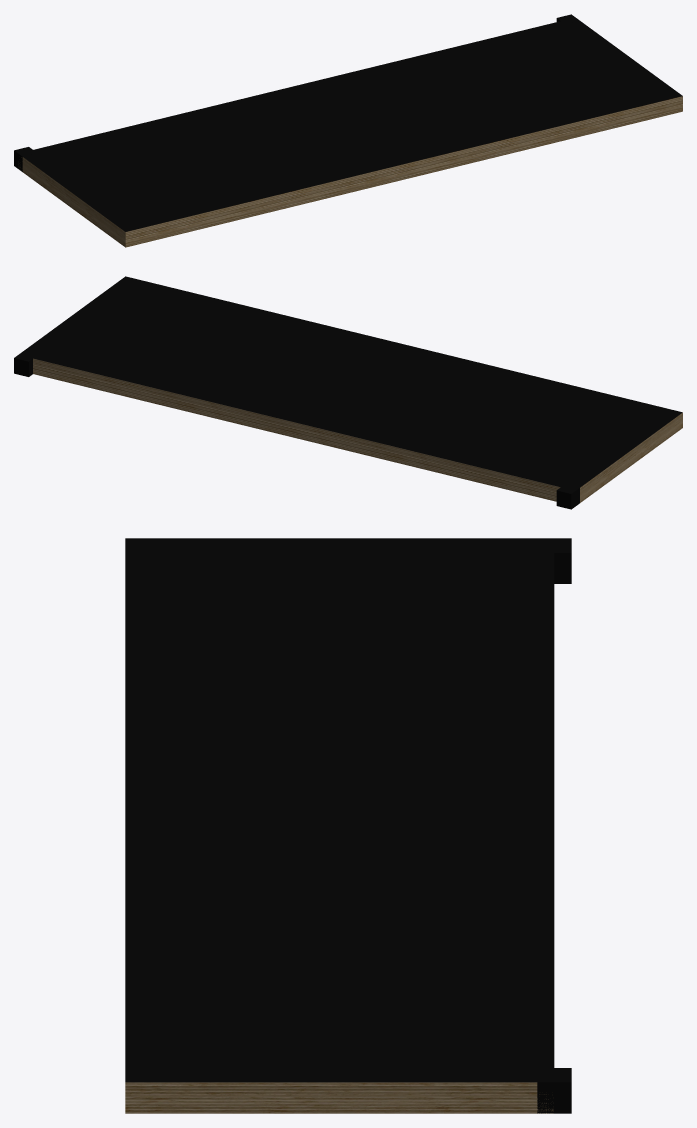
File: Shelf_001-transformed.glb
The picture shows the model from 3 angles, top to bottom: view 1: azimuth 30°, elevation 25°; view 2: azimuth 150°, elevation 25°; view 3: azimuth 270°, elevation 25°; orthographic projection. The views are drawn at different scales.
Visible parts, largest first — view 1: Suuret_pinnat, Leikkauspinnat; view 2: Suuret_pinnat, Leikkauspinnat, attach_1, attach_2; view 3: Suuret_pinnat, Leikkauspinnat, attach_2, attach_1.
Boxes of the visible parts, left/top/right/bottom form: Suuret_pinnat: left=23, top=20, right=682, bottom=231; Leikkauspinnat: left=18, top=96, right=682, bottom=247; Suuret_pinnat: left=23, top=276, right=682, bottom=487; Leikkauspinnat: left=33, top=358, right=682, bottom=502; attach_1: left=556, top=484, right=579, bottom=509; attach_2: left=14, top=351, right=36, bottom=376; Suuret_pinnat: left=125, top=538, right=554, bottom=1082; Leikkauspinnat: left=125, top=1082, right=553, bottom=1113; attach_2: left=537, top=1068, right=571, bottom=1113; attach_1: left=537, top=538, right=571, bottom=583.
Bounding box in the file's own units: 0.75 × 0.02 × 0.26.
2 materials, 1 textured.
